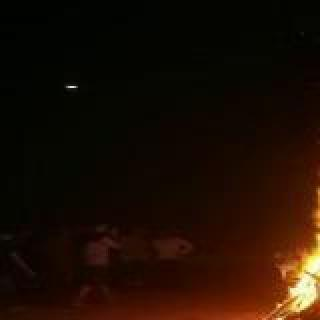fire: (278, 80, 320, 304)
